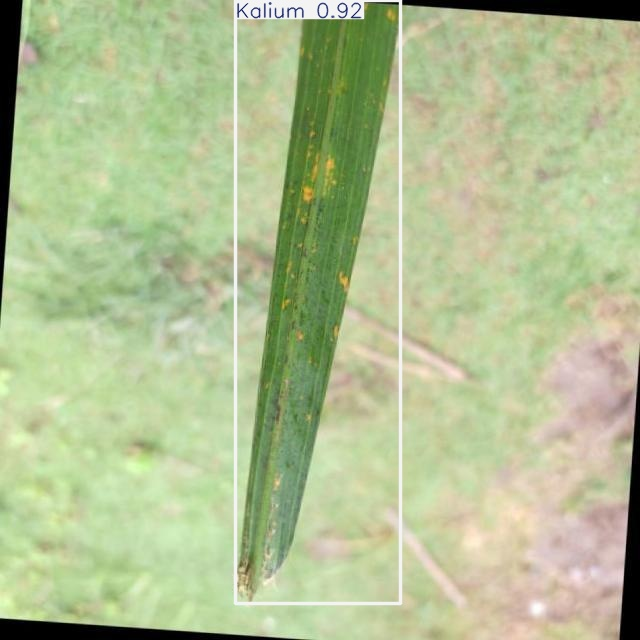Kalium: (235, 0, 400, 604)
